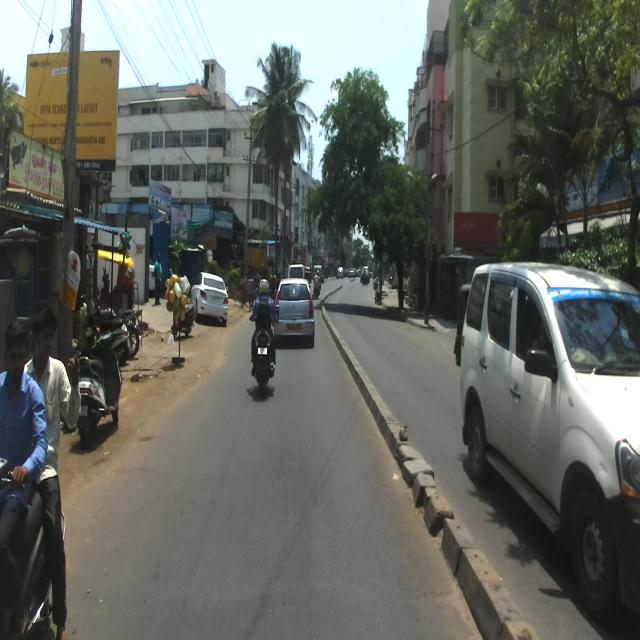car ahead at: (456, 259, 640, 602), (276, 280, 316, 342), (193, 273, 230, 328)
motorcycle ahead at: (77, 324, 125, 446), (246, 317, 277, 389)
